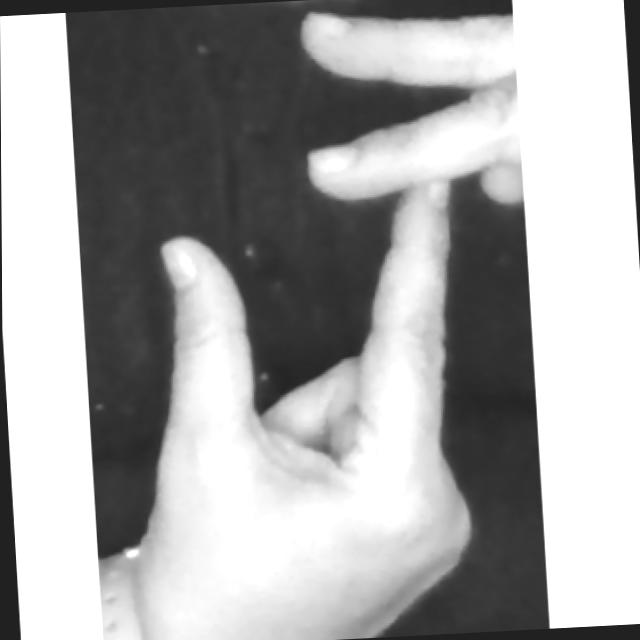U--: (70, 0, 552, 640)
